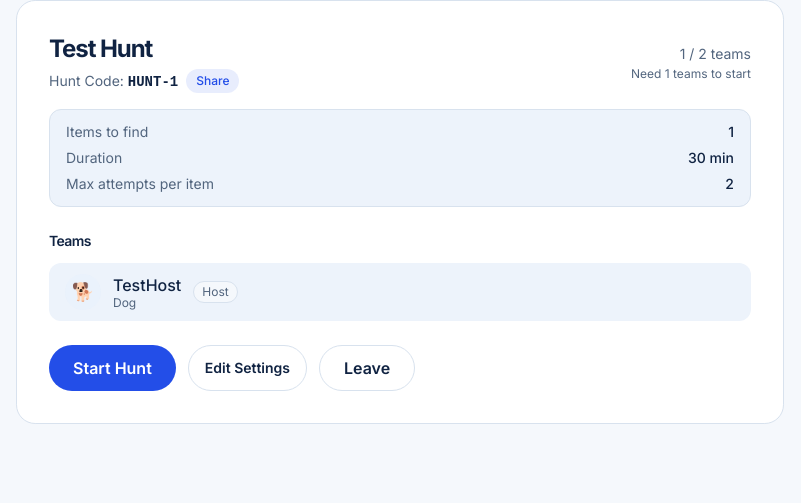
Test: HuntRoom — start_hunt delivery › keeps the host controls when the start_hunt send is dropped
This screenshot has width=801, height=503.
Click the button "Start Hunt".
click(112, 368)  # box [49, 345, 176, 391]
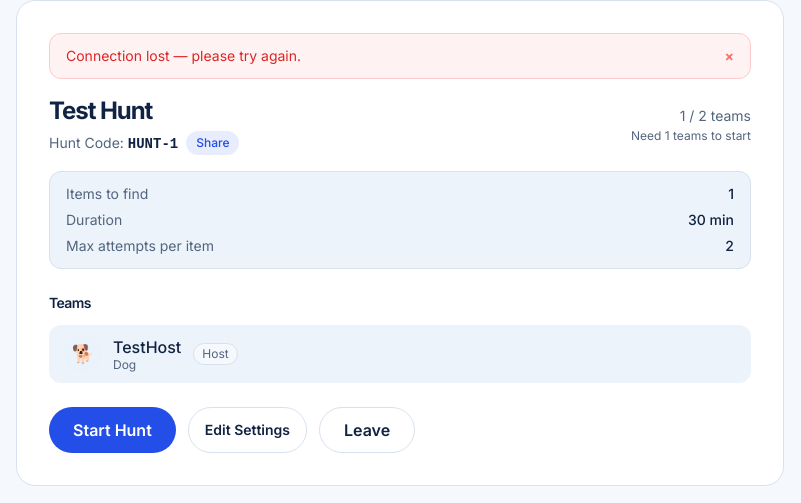
Expected: the button "Start Hunt" is shown, [49, 407, 176, 453]
Now the text "Connection lost — please try again." is shown, box [66, 46, 301, 66]
